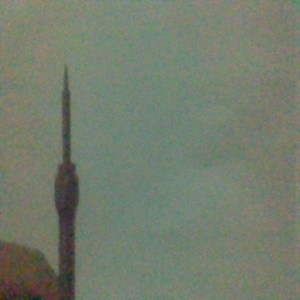solder: (53, 64, 79, 300)
